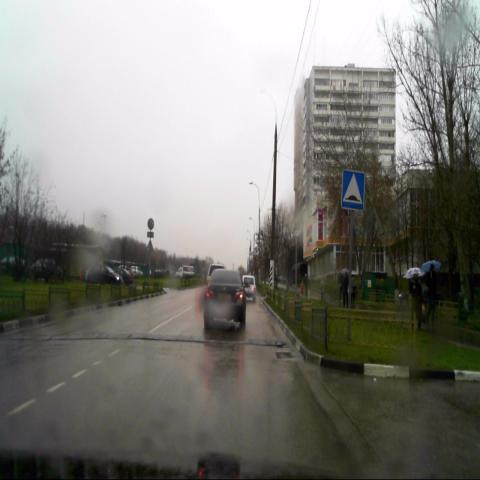3_25: (290, 216, 302, 236)
